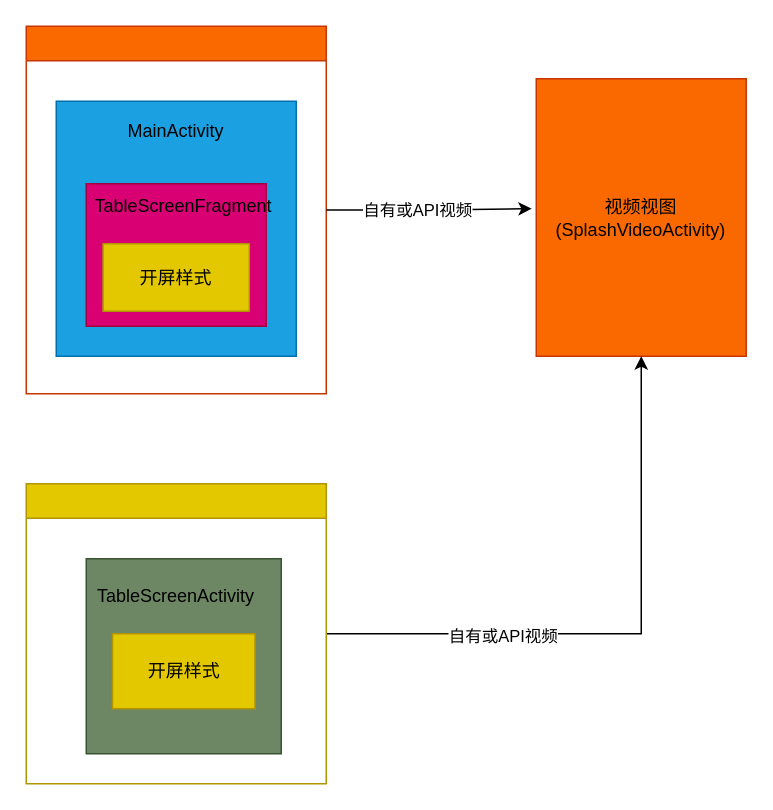
The diagram is 773 pixels wide and 810 high, and some of its shapes have lost their labels. Here are the shapes that lost their labels. From the top down, the box of each, then its label:
(25, 25, 326, 394): 冷启动视图
(25, 482, 326, 784): 热启动视图
